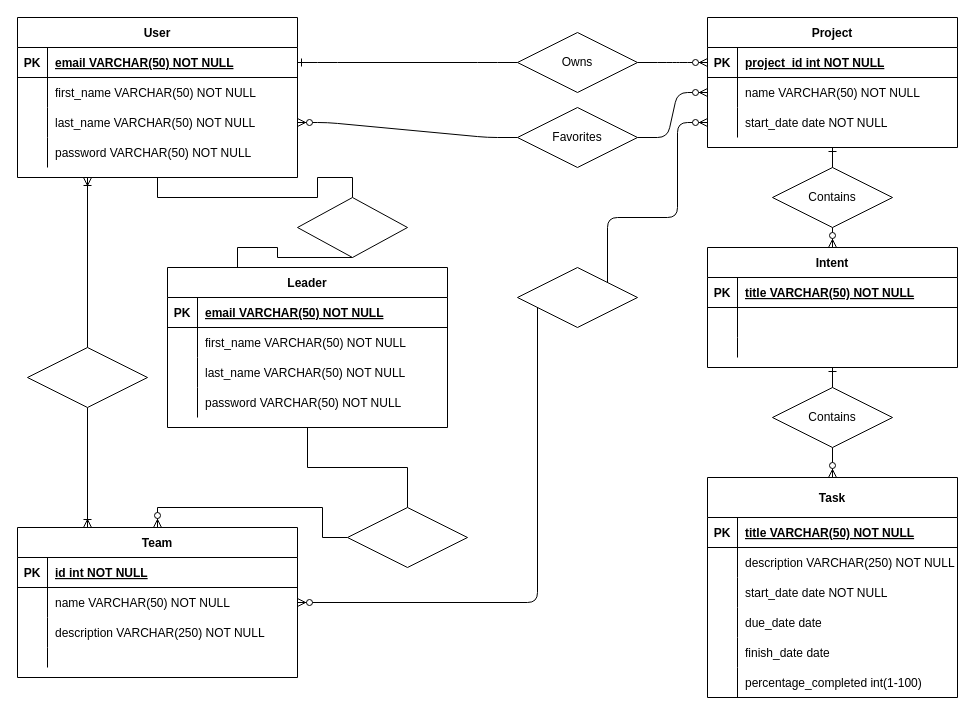
This 975x715 diagram has some shape labels left out. Each missing label, with the centre of its shape:
"assigned_to" belongs at point (577, 297).
"belongs_to" belongs at point (87, 377).
"is_a" belongs at point (352, 227).
"leads" belongs at point (407, 537).
